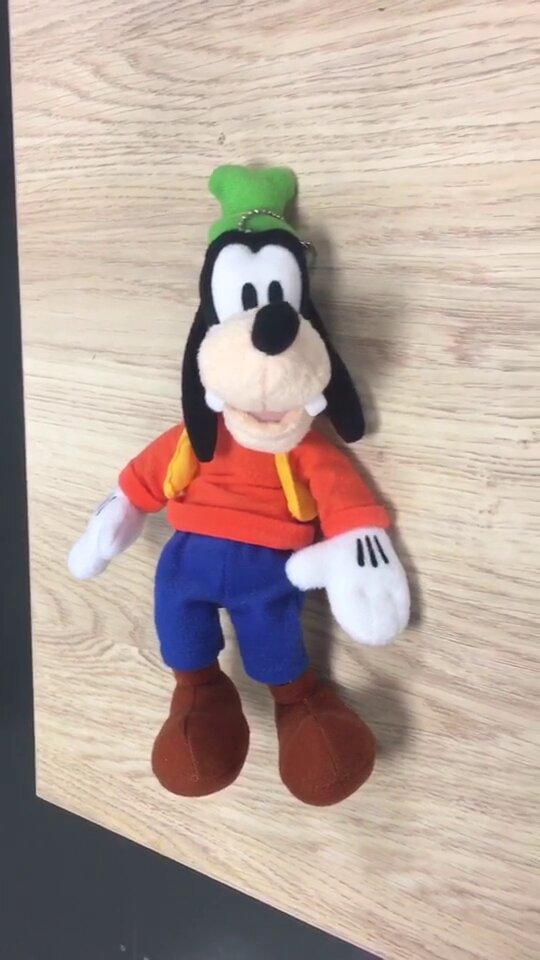goofy: (61, 161, 416, 809)
